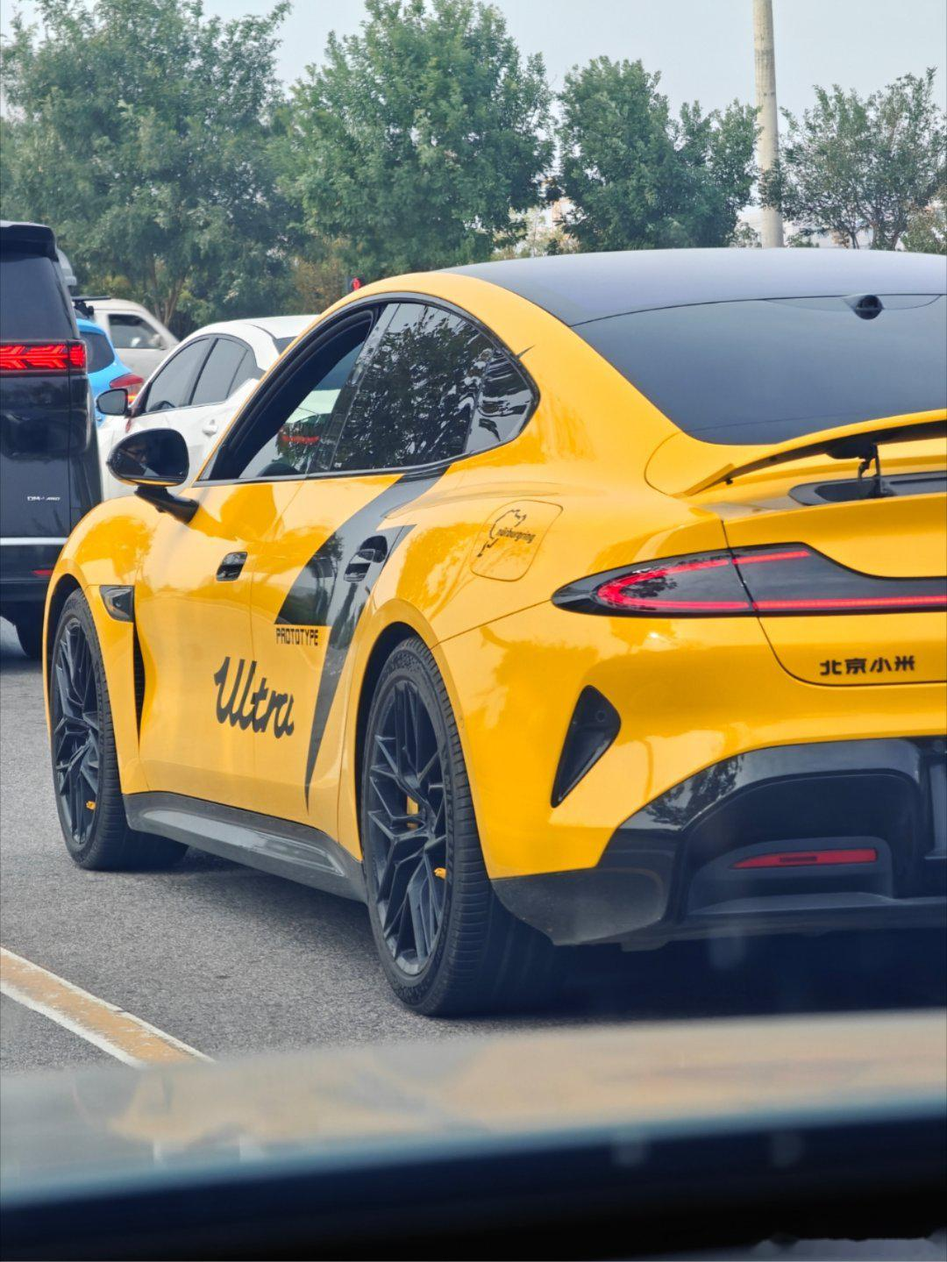su7: (53, 239, 947, 1023)
